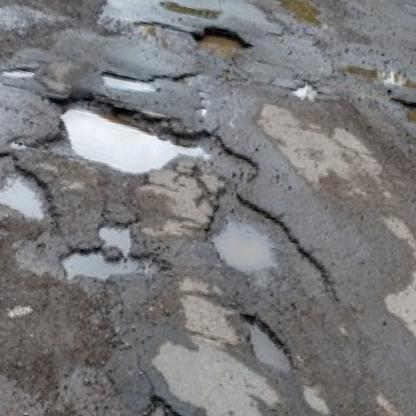pothole: (42, 83, 215, 188), (194, 185, 294, 279), (0, 148, 65, 229), (228, 308, 305, 373), (53, 237, 136, 289), (191, 19, 256, 65), (98, 69, 163, 102), (91, 213, 140, 256), (391, 94, 416, 144)
